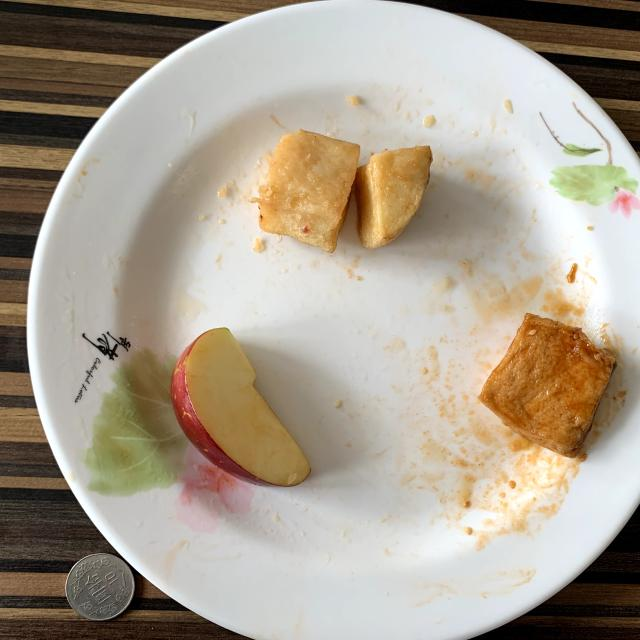apple -sliced-: (171, 328, 311, 486)
coin: (65, 554, 135, 621)
creamy tofu: (479, 314, 616, 458)
fried potato: (259, 129, 432, 252)
